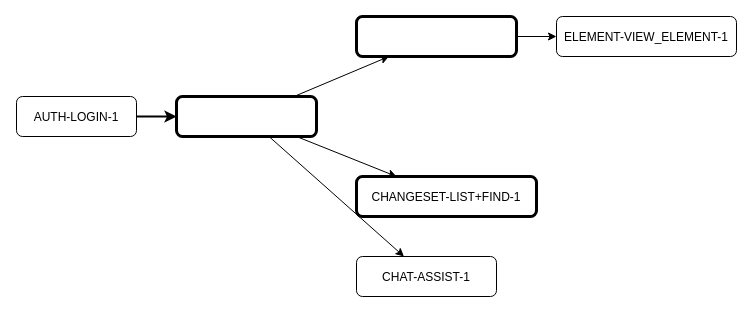
Image size: 753x313. Some labels were removed from this diagram. The box of each missing label's shape, as (x1, y1, x2, y2) in pixels:
ELEMENT-LIST+FIND-1: (354, 14, 518, 58)
VIEW-BROWSE-1: (174, 94, 318, 138)
